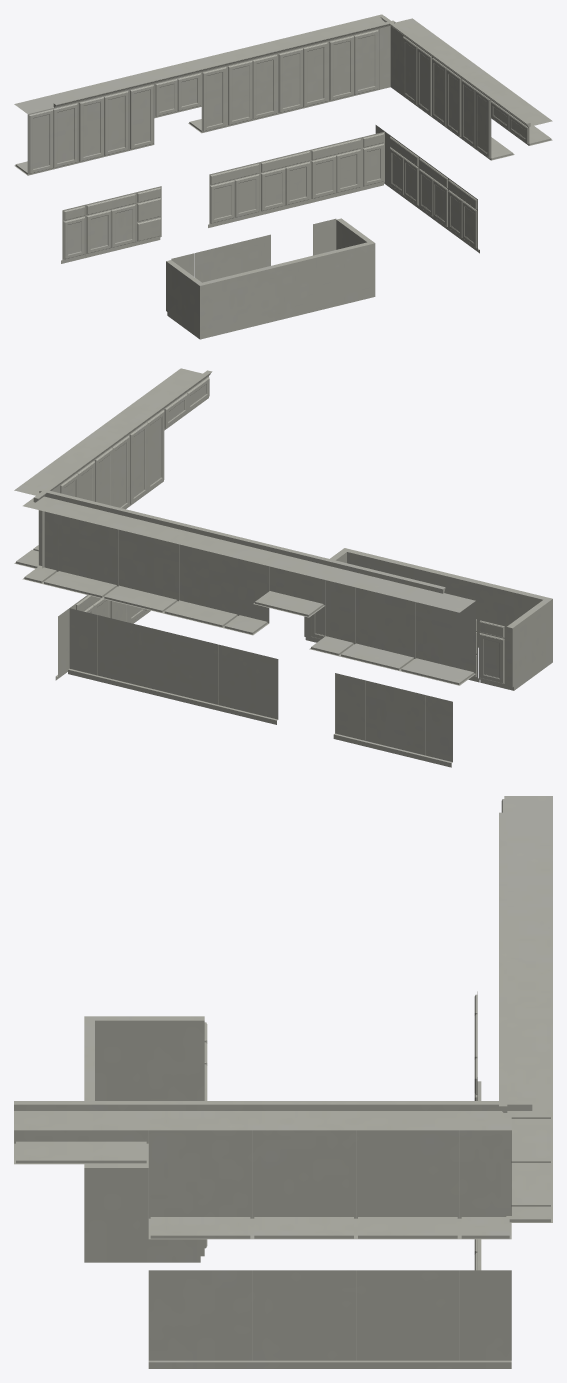
The model's file is cabinets_bolder.glb.
3 views of the same model, one above another, from view 1: azimuth 30°, elevation 25°; view 2: azimuth 150°, elevation 25°; view 3: azimuth 270°, elevation 25° (orthographic). The views are drawn at different scales.
Parts seen in each view (by area): view 1: Cabinet_bolder.001; view 2: Cabinet_bolder.001; view 3: Cabinet_bolder.001.
Boxes of the visible parts, bbox=[...] form: Cabinet_bolder.001: bbox=[14, 14, 552, 339]; Cabinet_bolder.001: bbox=[14, 368, 552, 767]; Cabinet_bolder.001: bbox=[14, 796, 552, 1368].
Bounding box in the file's own units: 7.63 × 2.93 × 5.2.
Materials: 1 (1 with a texture image).
